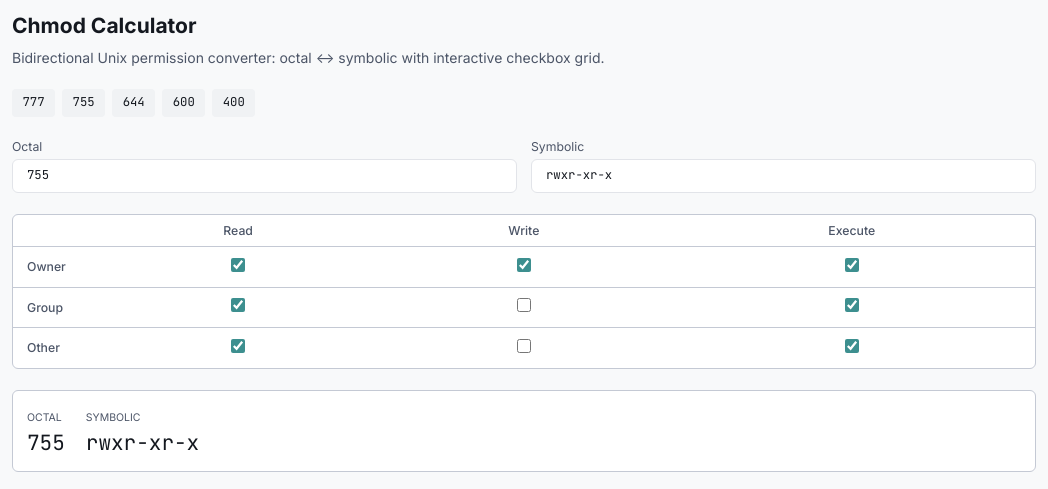
Test: ChmodCalculator › clicking 777 preset updates values
The width and height of the screenshot is (1048, 489).
Click the button "777". click: (34,103)
box: [12,89,55,117]
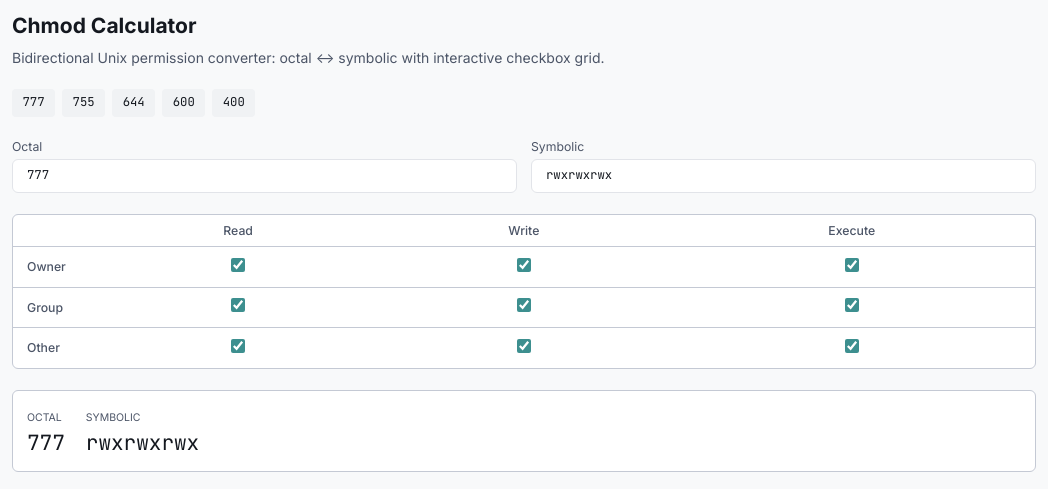
Now the 1st field showing "777" is shown, box [12,159,517,192]
